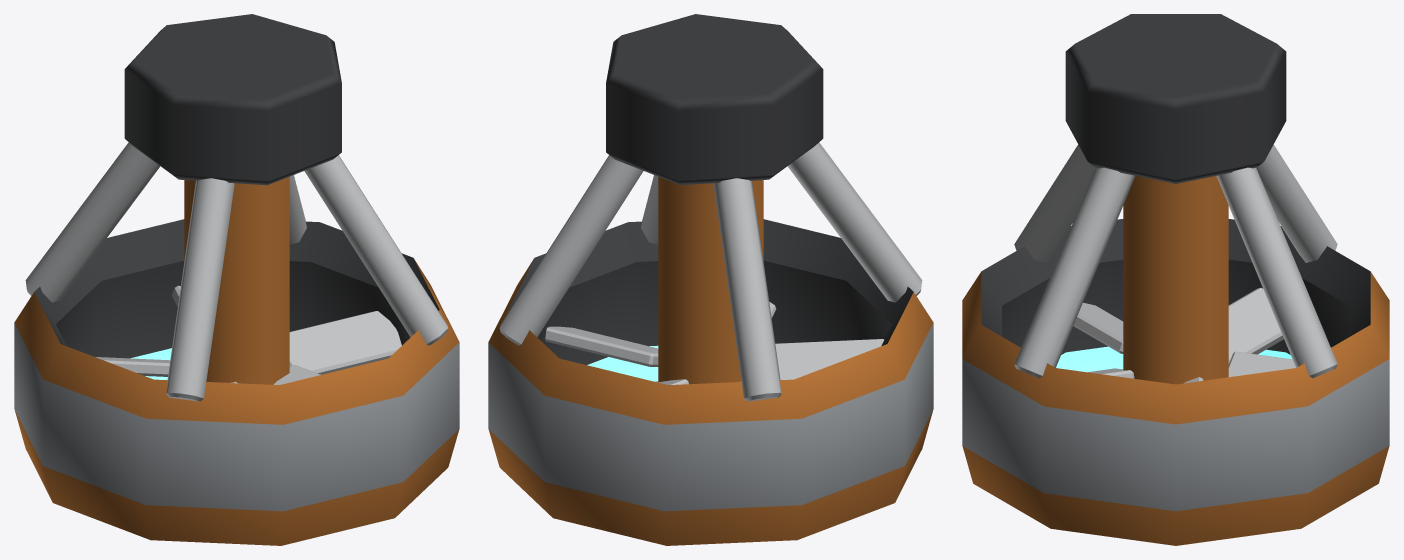
The model's file is R4X_HoverEngine_LOD1.fbx.
The picture shows the model from 3 angles, left to right: view 1: azimuth 30°, elevation 25°; view 2: azimuth 150°, elevation 25°; view 3: azimuth 270°, elevation 25°; orthographic projection.
Visible parts, largest first — view 1: R4X_HoverEngine_LOD1; view 2: R4X_HoverEngine_LOD1; view 3: R4X_HoverEngine_LOD1.
Part boxes in pixels (box(x1,y1,x2,y2)): R4X_HoverEngine_LOD1: box(14, 14, 459, 545); R4X_HoverEngine_LOD1: box(488, 14, 933, 545); R4X_HoverEngine_LOD1: box(962, 14, 1389, 545).
Bounding box in the file's own units: 0.516 × 0.52 × 0.4907.
